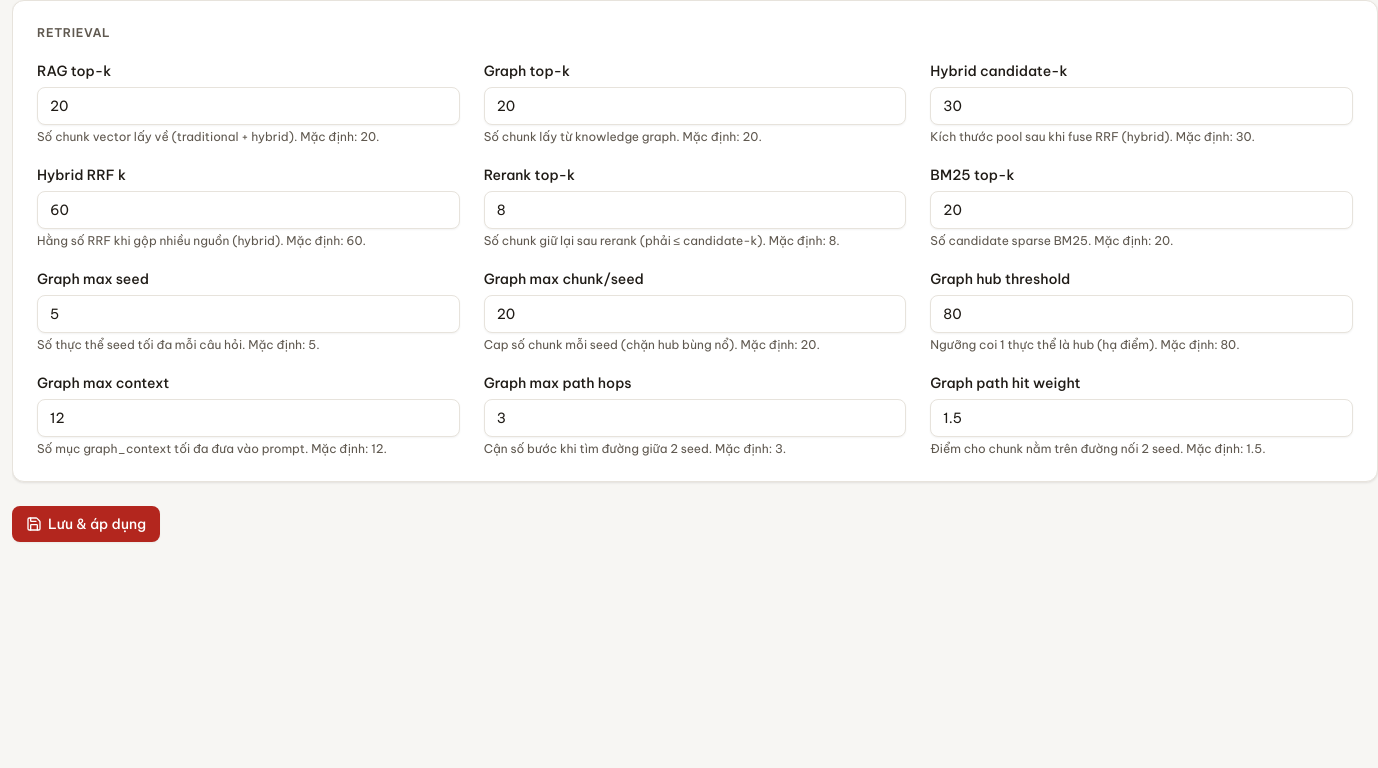
Scenario: ConfigForm › lưu gọi API với patch số + hiện banner hiệu lực 60 giây
Replace the text in the number field labelled "RAG top-k" with "15" at (248, 106), box [37,87,460,125]
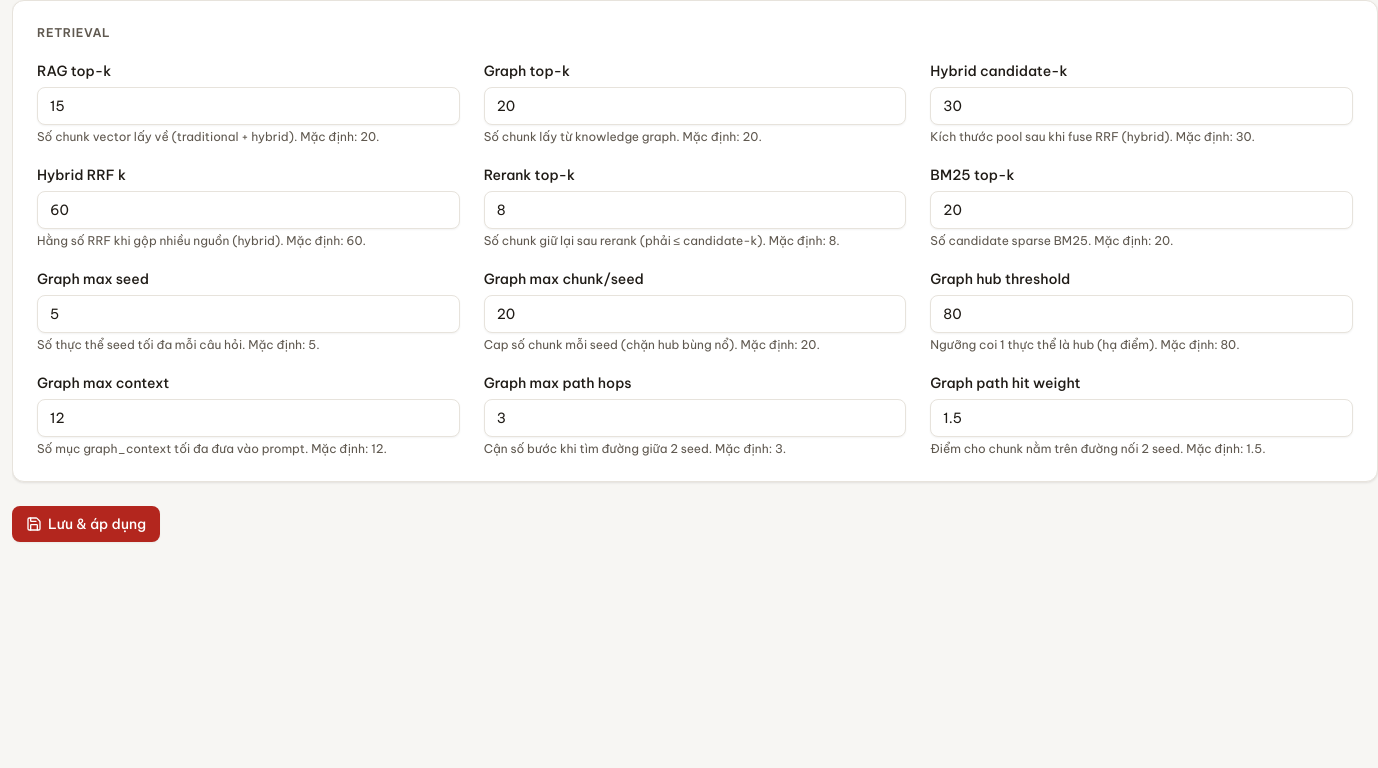
Click the button "Lưu & áp dụng" at (86, 524), box [12,506,160,542]
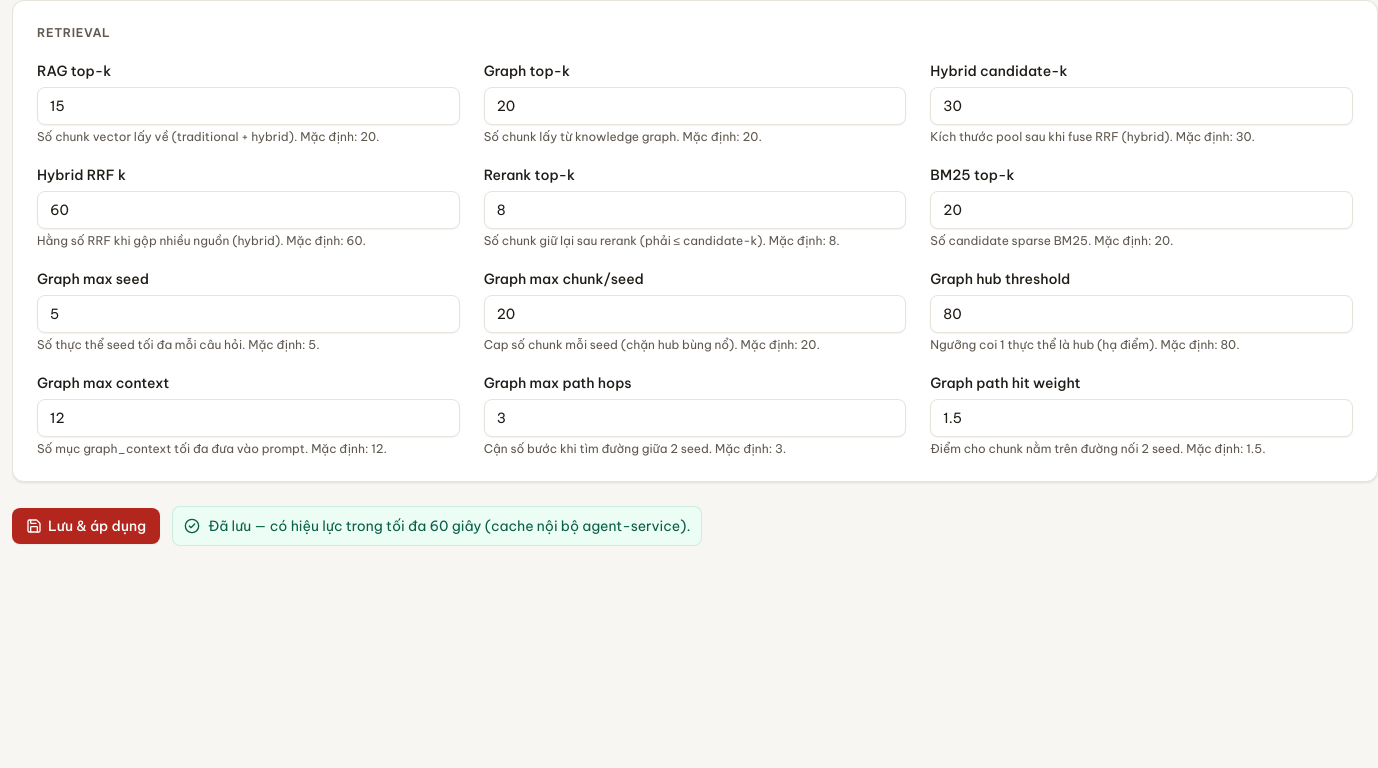
Expected: the text "hiệu lực trong tối đa 60 giây" is shown, [208,517,690,535]
